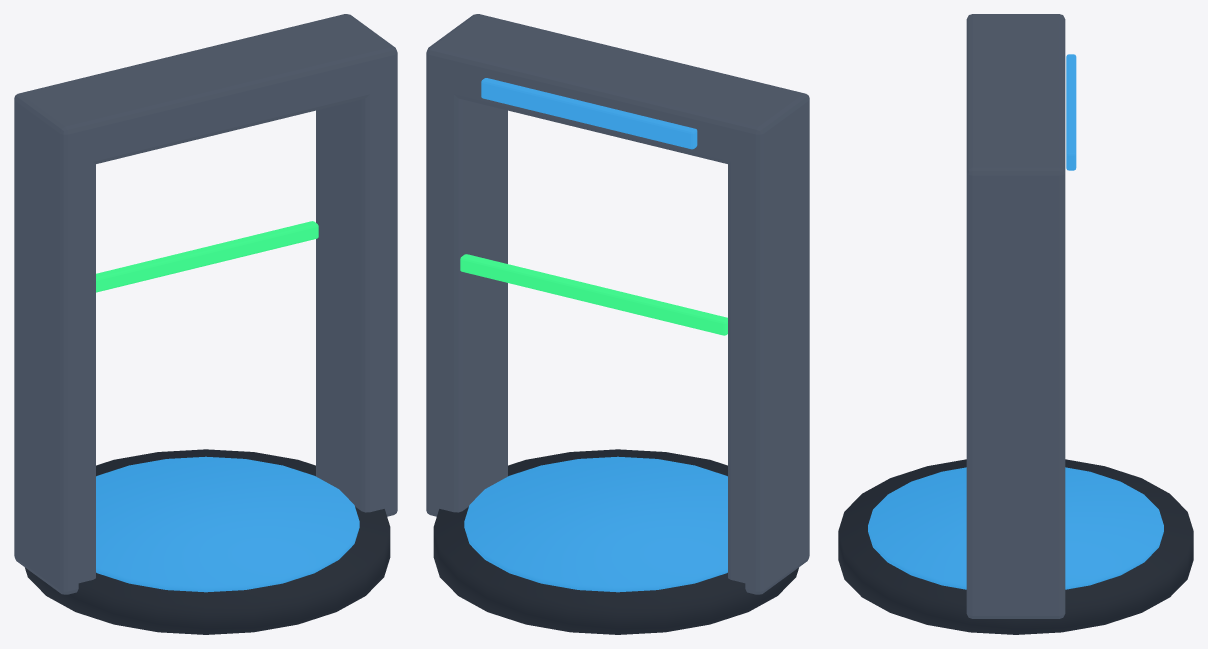
The model's file is escaner.glb.
3 renders of one model, left to right at view 1: azimuth 30°, elevation 25°; view 2: azimuth 150°, elevation 25°; view 3: azimuth 270°, elevation 25°, orthographic. The views are drawn at different scales.
Parts seen in each view (by area): view 1: Cube.092, Cube.091, Cube.093, Cylinder.056, Cylinder.055, Cube.094; view 2: Cube.092, Cube.091, Cylinder.056, Cube.093, Cylinder.055, Cube.094, Cube.095; view 3: Cube.091, Cube.093, Cylinder.055, Cylinder.056, Cube.095.
Part boxes in pixels (x1,y1,x2,y2): Cube.092: (14,122,95,594); Cube.091: (316,76,397,516); Cube.093: (14,14,397,167); Cylinder.056: (96,456,359,592); Cylinder.055: (25,449,390,634); Cube.094: (96,221,318,292); Cube.092: (728,122,809,594); Cube.091: (426,87,507,516); Cylinder.056: (464,456,727,592); Cube.093: (426,14,809,166); Cylinder.055: (433,449,798,634); Cube.094: (460,254,727,335); Cube.095: (481,78,697,149); Cube.091: (966,195,1065,618); Cube.093: (966,14,1065,207); Cylinder.055: (838,459,1193,634); Cylinder.056: (868,467,1163,589); Cube.095: (1066,54,1076,170).
Bounding box in the file's own units: 1.9 × 2.62 × 1.8.
